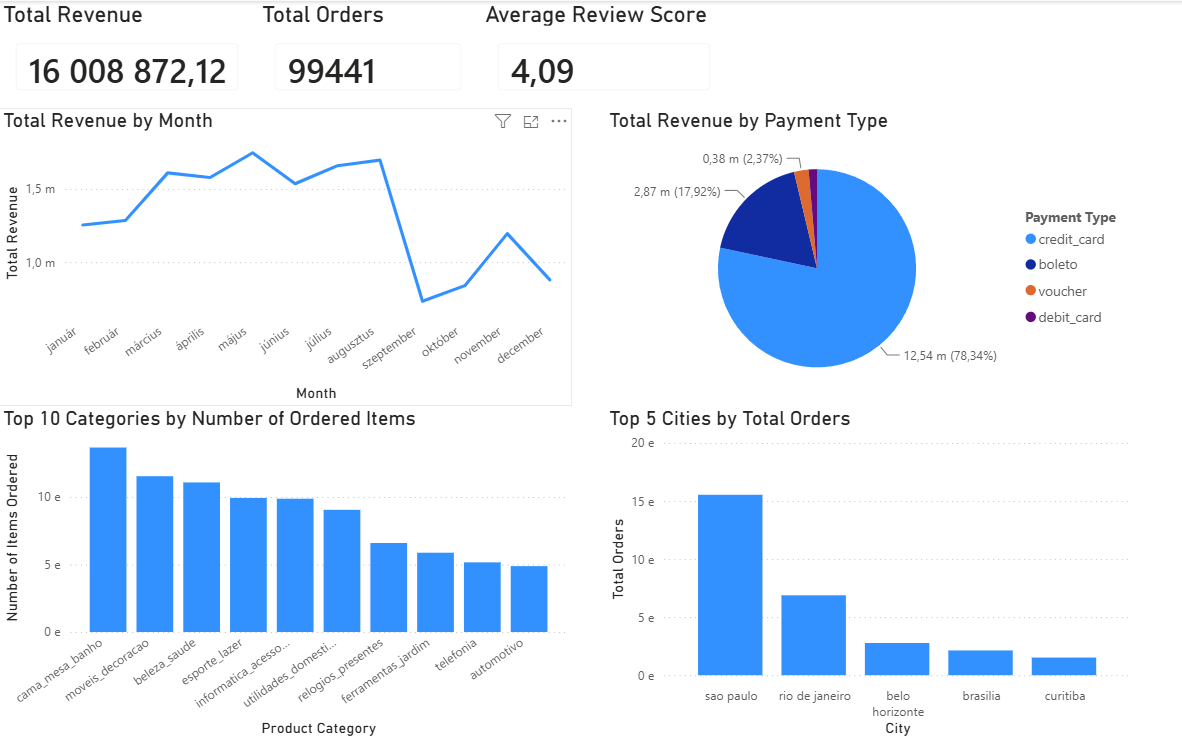

Layout of this report page (visuals, bound fields, positions):
{"tool":"powerbi","page":{"name":"1. oldal","canvas":[1280,720],"ordinal":0},"visuals":[{"type":"lineChart","title":"Total Revenue by Month","fields":{"Y":["raw order_payments.Total revenue"],"Category":["raw orders.Order month.Változat.Dátumhierarchia.Hónap"]},"box":[0,104.1,558.3,289.8],"z":0},{"type":"cardVisual","title":"Total Revenue","fields":{"Data":["raw order_payments.Total revenue"]},"box":[0,0,251.9,104.1],"z":1000},{"type":"cardVisual","title":"Total Orders","fields":{"Data":["raw orders.Total orders"]},"box":[251.9,0,216.9,104.1],"z":2000},{"type":"cardVisual","title":"Average Review Score","fields":{"Data":["raw order_reviews.Average review score"]},"box":[468.8,0,241.2,104.1],"z":3000},{"type":"pieChart","title":"Total Revenue by Payment Type","fields":{"Category":["raw order_payments.payment_type"],"Y":["raw order_payments.Total revenue"]},"box":[589.4,104.1,519.4,289.8],"z":4000},{"type":"columnChart","title":"Top 10 Categories by Number of Ordered Items","fields":{"Category":["raw products.product_category_name"],"Y":["Sum(raw order_items.order_item_id)"]},"box":[0,393.9,558.3,325.8],"z":5000},{"type":"columnChart","title":"Top 5 Cities by Total Orders","fields":{"Category":["raw customers.customer_city"],"Y":["raw orders.Total orders"]},"box":[589.4,393.9,518.4,325.8],"z":6000}]}

Visuals, with their boxes on the page's 1280x720 design canvas (x1, y1, x2, y2). These are canvas units, not pixel positions in the 1182x741 screenshot, which may show the page scaled, cropped or inside an application window:
"Total Revenue by Month" lineChart: (0,104,558,394)
"Total Revenue" cardVisual: (0,0,252,104)
"Total Orders" cardVisual: (252,0,469,104)
"Average Review Score" cardVisual: (469,0,710,104)
"Total Revenue by Payment Type" pieChart: (589,104,1109,394)
"Top 10 Categories by Number of Ordered Items" columnChart: (0,394,558,720)
"Top 5 Cities by Total Orders" columnChart: (589,394,1108,720)
